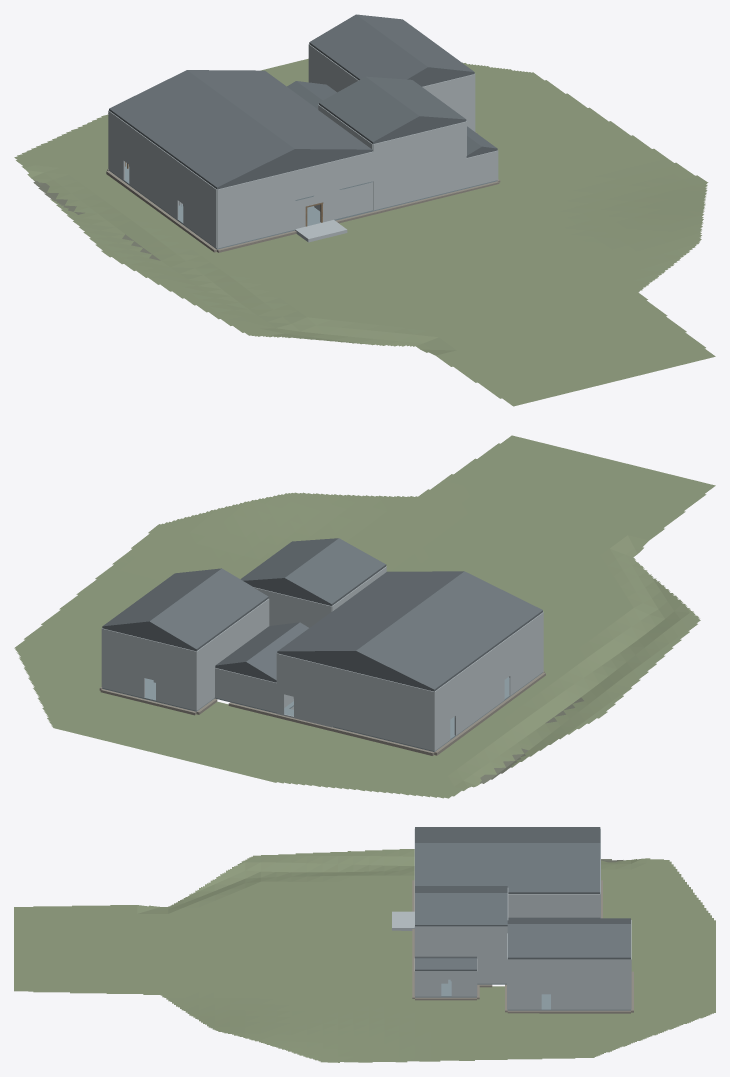
File: clean-doorways.glb
The picture shows the model from 3 angles, top to bottom: view 1: azimuth 30°, elevation 25°; view 2: azimuth 150°, elevation 25°; view 3: azimuth 270°, elevation 25°; orthographic projection. The views are drawn at different scales.
Parts seen in each view (by area): view 1: Saved editor macroterrain SCHOOL, teaching roof west, teaching roof east, gym roof west, Wall assembly S, assembly roof west, Wall library S, Wall class-a-store S, gym roof east, Wall dining S, assembly roof east, Wall upper-lobby S (+11 smaller); view 2: Saved editor macroterrain SCHOOL, teaching roof west, teaching roof east, gym roof west, assembly roof west, Flat route shell Wall gym N, Flat route shell Wall gym N.001, Wall class-b N, Wall science N, gym roof east, assembly roof east, Wall library W (+15 smaller); view 3: Saved editor macroterrain SCHOOL, teaching roof east, Flat route shell Wall gym E, gym roof east, assembly roof east, teaching roof west, Wall assembly E, Wall wash-a E, Wall wash-b E, receiving roof east, Flat route shell Wall gym-link E, gym roof west (+5 smaller).
Boxes of the visible parts, box(x1,y1,x2,y2) form: Saved editor macroterrain SCHOOL: box(14, 58, 715, 406); teaching roof west: box(109, 70, 294, 189); teaching roof east: box(187, 70, 372, 151); gym roof west: box(309, 14, 427, 79); Wall assembly S: box(373, 121, 466, 180); assembly roof west: box(319, 76, 419, 143); Wall library S: box(217, 170, 295, 218); Wall class-a-store S: box(217, 200, 295, 248); gym roof east: box(356, 14, 474, 73); Wall dining S: box(373, 166, 435, 210); assembly roof east: box(366, 76, 466, 121); Wall upper-lobby S: box(318, 151, 373, 194); Saved editor macroterrain SCHOOL: box(14, 435, 715, 798); teaching roof west: box(356, 571, 542, 690); teaching roof east: box(277, 571, 463, 653); gym roof west: box(149, 568, 268, 650); assembly roof west: box(284, 538, 386, 605); Flat route shell Wall gym N: box(153, 641, 196, 710); Flat route shell Wall gym N.001: box(102, 628, 144, 697); Wall class-b N: box(355, 672, 434, 721); Wall science N: box(355, 702, 434, 750); gym roof east: box(102, 568, 221, 627); assembly roof east: box(240, 538, 338, 582); Wall library W: box(489, 612, 543, 681); Saved editor macroterrain SCHOOL: box(14, 849, 715, 1062); teaching roof east: box(415, 843, 600, 893); Flat route shell Wall gym E: box(507, 959, 630, 1009); gym roof east: box(507, 924, 630, 958); assembly roof east: box(415, 893, 507, 926); teaching roof west: box(415, 827, 600, 842); Wall assembly E: box(415, 926, 507, 958); Wall wash-a E: box(561, 894, 600, 917); Wall wash-b E: box(523, 894, 561, 917); receiving roof east: box(415, 958, 476, 971); Flat route shell Wall gym-link E: box(477, 958, 506, 983); gym roof west: box(507, 918, 630, 923).
Size of the model in its own units: 67 by 13.3 by 91.
Materials: 26 (17 with a texture image).
